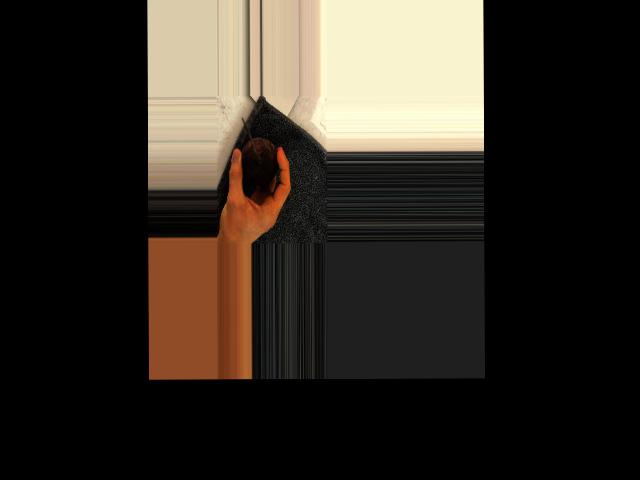beet: (241, 117, 278, 185)
